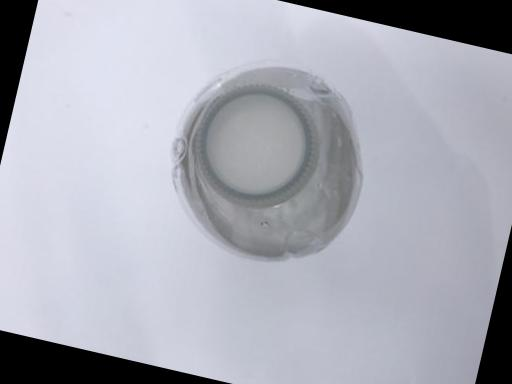plastic: (116, 22, 403, 298)
